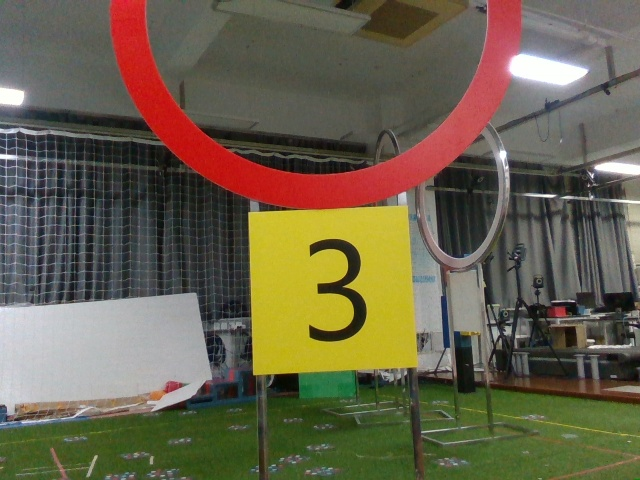target: (252, 212, 409, 360)
